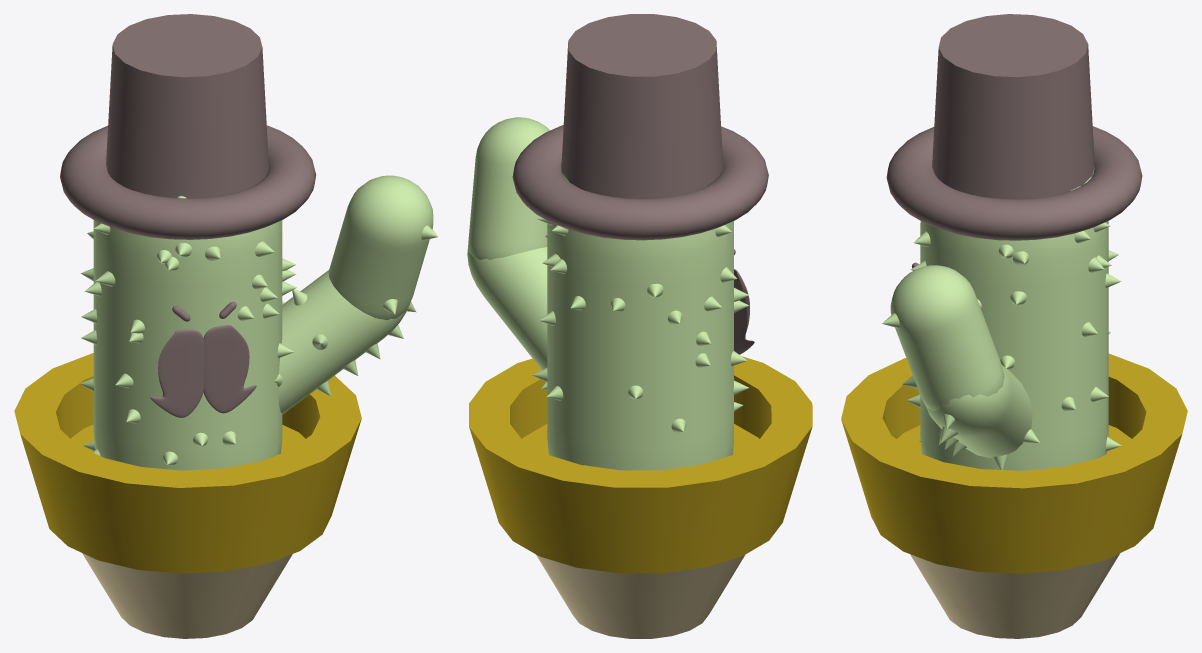
Rendered from Cactus_2310201512.fbx.
3 renders of one model, left to right at view 1: azimuth 30°, elevation 25°; view 2: azimuth 150°, elevation 25°; view 3: azimuth 270°, elevation 25°, orthographic.
Parts seen in each view (by area): view 1: 圆柱_1, 胶囊, 圆柱_2, 圆环, 胶囊_1, 圆柱, 胶囊_2, 细分曲面_1, 克隆_1, 克隆_2; view 2: 圆柱_1, 胶囊, 圆柱_2, 圆环, 圆柱, 胶囊_1, 胶囊_2, 克隆_1, 细分曲面_1; view 3: 圆柱_1, 胶囊, 圆柱_2, 圆环, 胶囊_1, 圆柱, 胶囊_2, 克隆_1, 克隆_2.
Part boxes in pixels (x1,y1,x2,y2): 圆柱_1: [14, 353, 361, 573]; 胶囊: [93, 220, 282, 470]; 圆柱_2: [106, 14, 268, 198]; 圆环: [60, 125, 316, 239]; 胶囊_1: [328, 175, 433, 319]; 圆柱: [82, 553, 292, 638]; 胶囊_2: [278, 270, 410, 414]; 细分曲面_1: [150, 325, 256, 417]; 克隆_1: [80, 196, 296, 465]; 克隆_2: [274, 289, 403, 396]; 圆柱_1: [469, 356, 812, 573]; 胶囊: [547, 162, 733, 470]; 圆柱_2: [561, 14, 722, 198]; 圆环: [512, 125, 768, 240]; 圆柱: [536, 554, 744, 638]; 胶囊_1: [468, 117, 549, 259]; 胶囊_2: [467, 245, 547, 369]; 克隆_1: [532, 217, 748, 465]; 细分曲面_1: [734, 269, 754, 354]; 圆柱_1: [841, 353, 1187, 573]; 胶囊: [920, 167, 1108, 470]; 圆柱_2: [932, 14, 1094, 199]; 圆环: [886, 126, 1142, 240]; 胶囊_1: [890, 265, 1004, 410]; 圆柱: [910, 553, 1119, 638]; 胶囊_2: [926, 365, 1032, 457]; 克隆_1: [906, 222, 1121, 451]; 克隆_2: [938, 426, 1039, 469].
Size of the model in its own units: 62.73 by 96.7 by 53.91.
